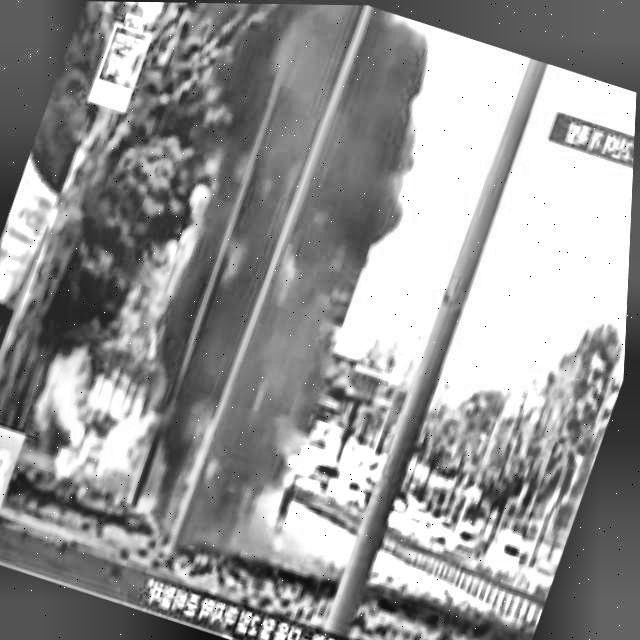Fire: (10, 353, 167, 500)
